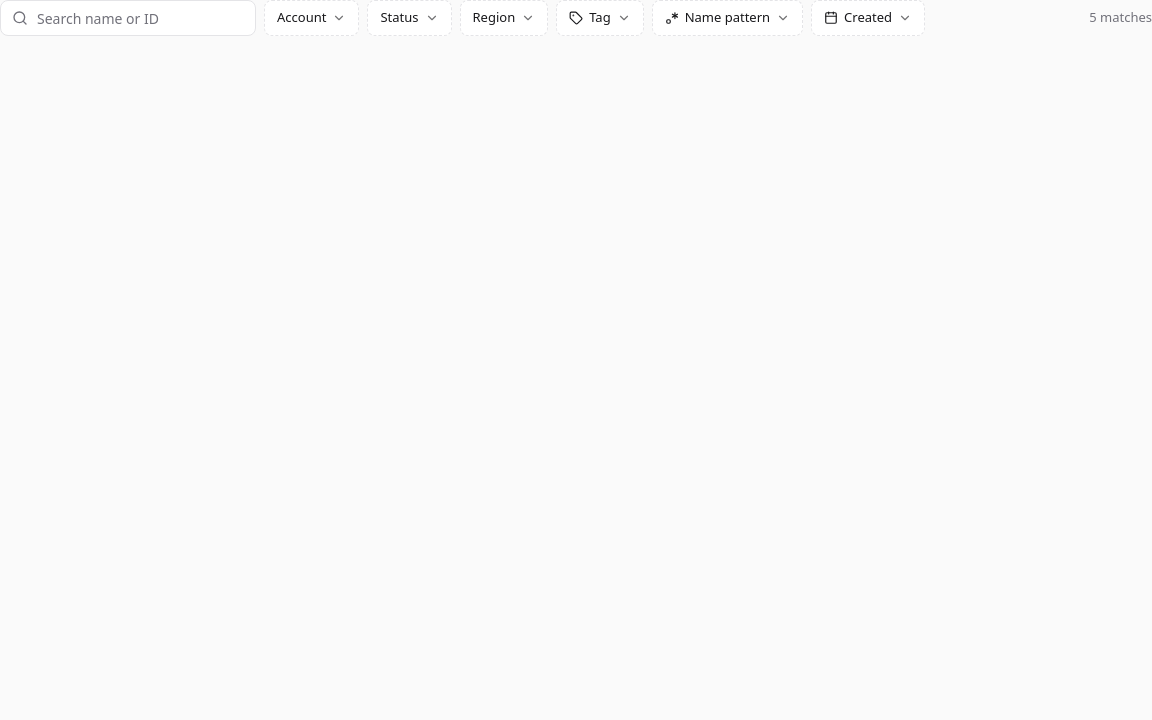
it: FilterBar › offers only the accounts that have the type
Click the button "Account" at [312, 18], box [264, 0, 359, 36]
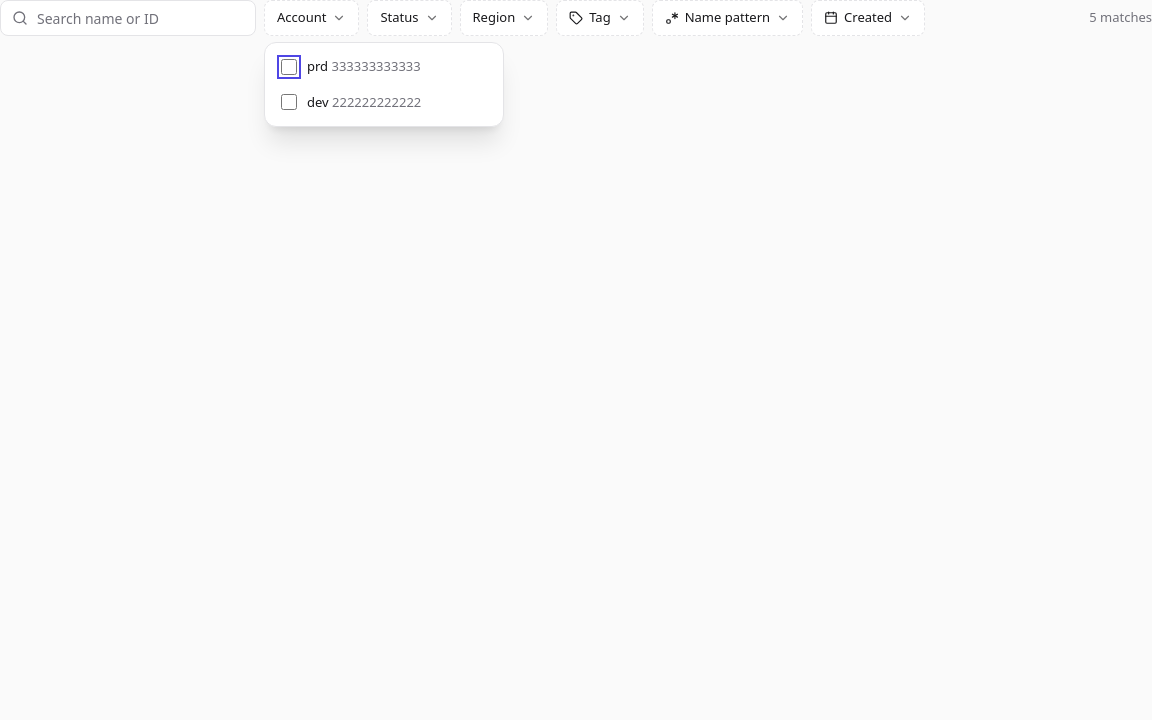
expect the checkbox labelled "dev" is shown: met, box [281, 94, 297, 110]
expect the checkbox labelled "prd" is shown: met, box [281, 59, 297, 75]
